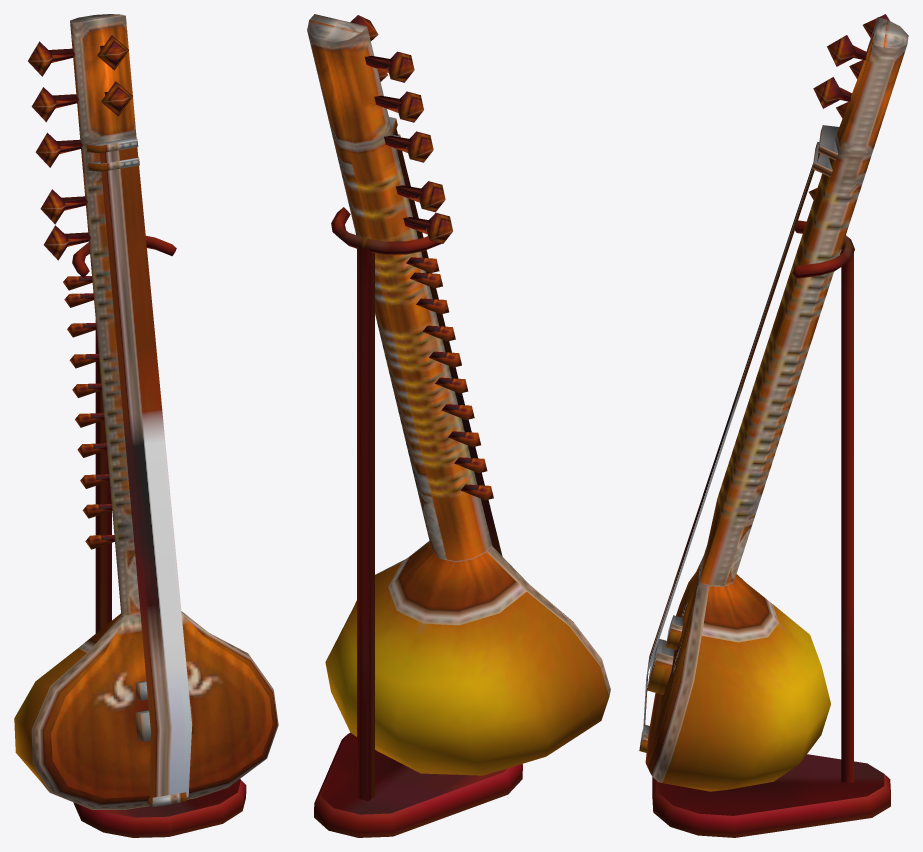
Rendered from int_oth_sitar.dae.
The picture shows the model from 3 angles, left to right: view 1: azimuth 30°, elevation 25°; view 2: azimuth 150°, elevation 25°; view 3: azimuth 270°, elevation 25°; orthographic projection. The views are drawn at different scales.
Visible parts, largest first — view 1: int_oth_sitar; view 2: int_oth_sitar; view 3: int_oth_sitar.
Boxes of the visible parts, x1,y1,x2,y2 form: int_oth_sitar: (14, 14, 278, 837); int_oth_sitar: (307, 14, 610, 837); int_oth_sitar: (639, 14, 908, 837).
Size of the model in its own units: 18.77 by 55.48 by 17.48.
3 materials, 3 textured.
